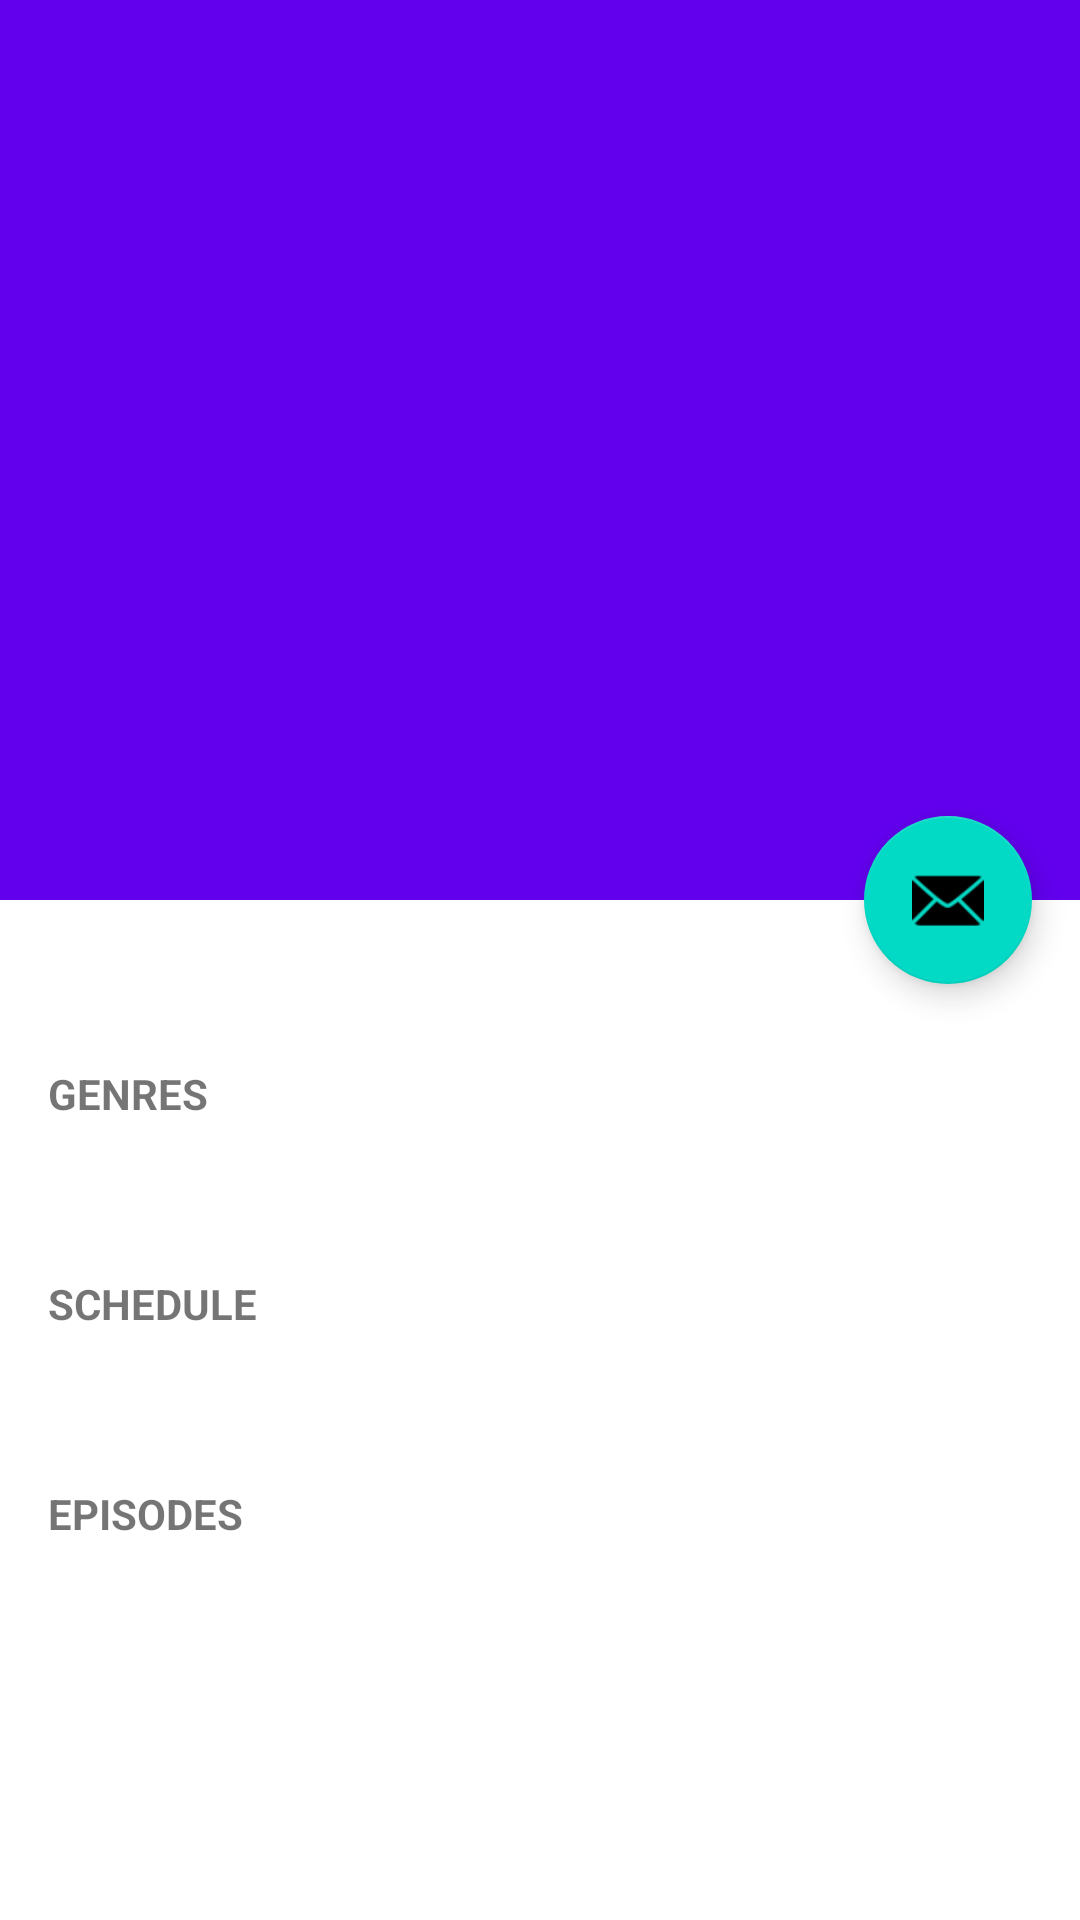

Named icons in this screenshot (1080x1920) and their centers, point (x, y):
email: point (948, 900)
